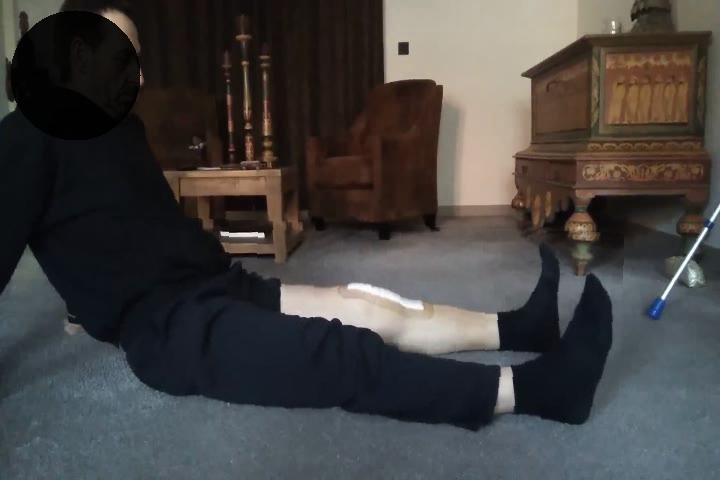lower_body: (119, 222, 624, 444)
